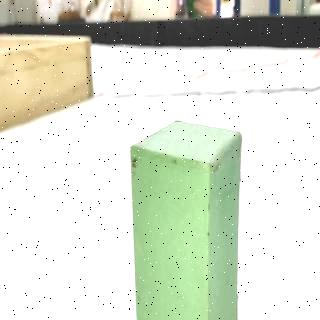greenbox: (127, 117, 246, 320)
